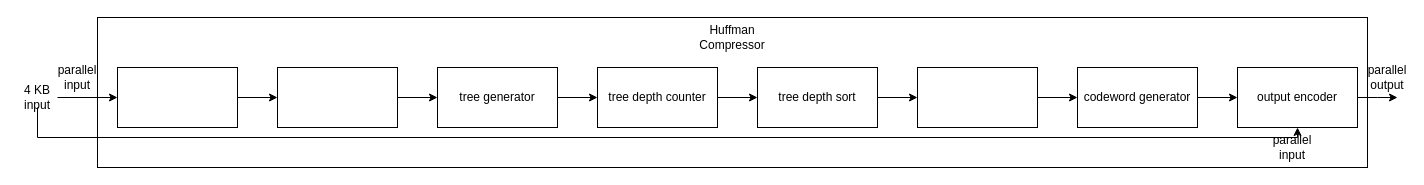
Image size: 1424x185. Some labels were removed from this diagram. The centre of each missing label's shape, as x and y in pixels:
character frequency counter: point 177,97
character frequency sort: point 337,97
tree depth normalizer: point 977,97
